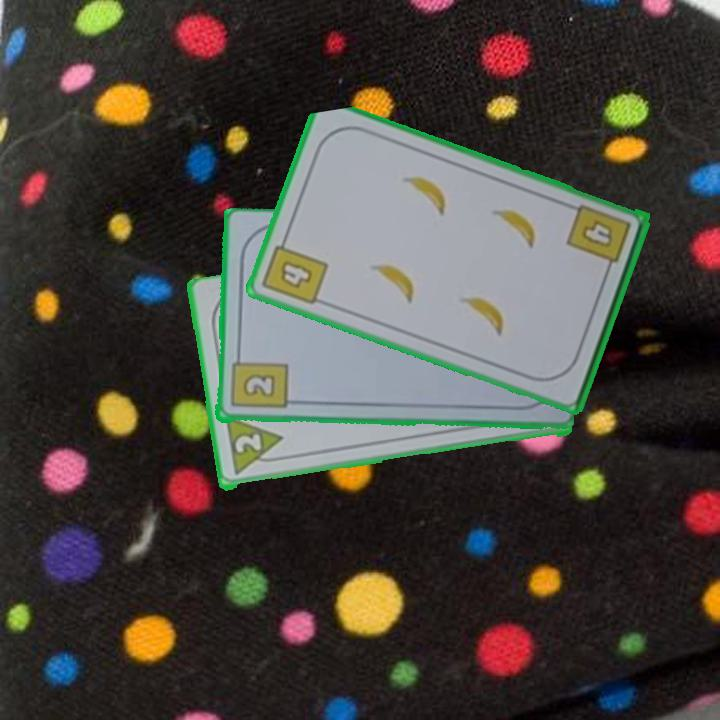2b: (227, 349, 289, 412)
2p: (231, 431, 264, 457)
4b: (258, 231, 331, 308), (563, 201, 634, 277)
